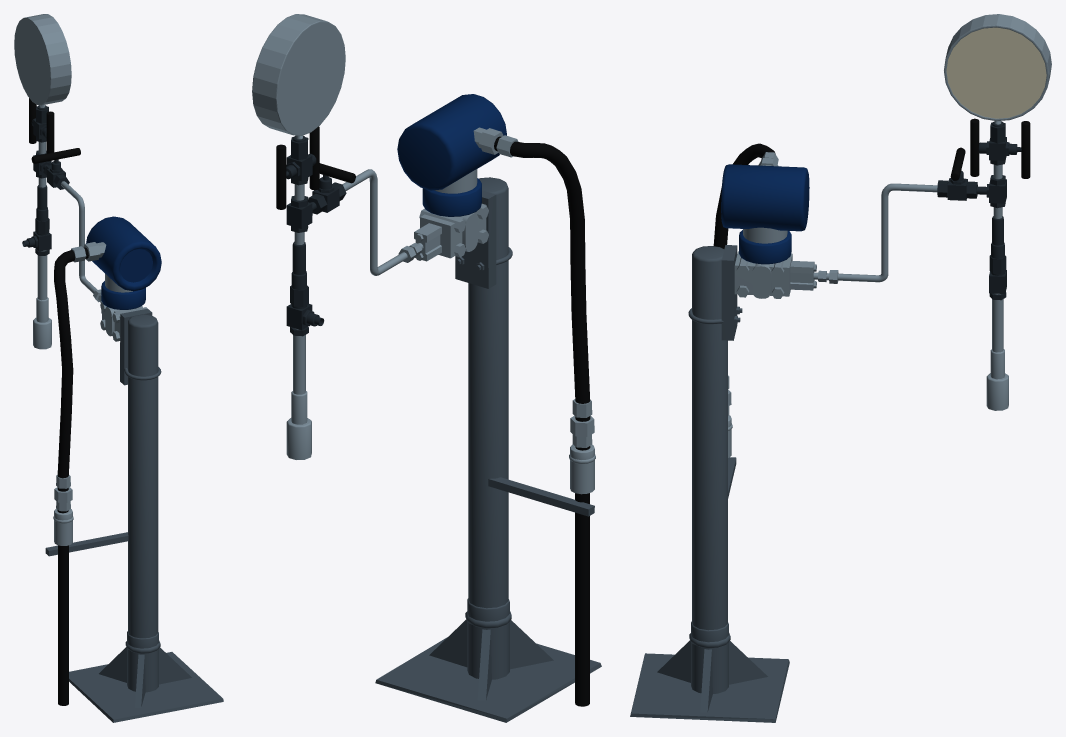
The model's file is 压力变送器_完整装配.fbx.
3 views of the same model, side by side, from view 1: azimuth 30°, elevation 25°; view 2: azimuth 150°, elevation 25°; view 3: azimuth 270°, elevation 25° (orthographic). The views are drawn at different scales.
Parts seen in each view (by area): view 1: 立柱_支撑管, 底座_安装底板, 压力表_表壳, 变送器_电子外壳, 线缆_弯曲护套, 线缆_下引段, 立柱_底部套筒, 变送器_下壳盖, 支架_仪表安装板, 支架_线缆固定片, 引压管_弯管, 线缆_防水接头 (+7 smaller); view 2: 立柱_支撑管, 压力表_表壳, 底座_安装底板, 变送器_电子外壳, 线缆_弯曲护套, 线缆_下引段, 立柱_底部套筒, 支架_仪表安装板, 变送器_下壳盖, 支架_线缆固定片, 引压管_弯管, 线缆_防水接头 (+10 smaller); view 3: 立柱_支撑管, 压力表_表盘, 底座_安装底板, 变送器_电子外壳, 压力表_表壳, 立柱_底部套筒, 引压管_弯管, 支架_仪表安装板, 变送器_下壳盖, 变送器_连接块, 线缆_弯曲护套, 底座_加强筋_02 (+3 smaller).
Boxes of the visible parts, x1,y1,x2,y2 form: 立柱_支撑管: (128, 314, 158, 638); 底座_安装底板: (69, 652, 223, 722); 压力表_表壳: (14, 14, 71, 105); 变送器_电子外壳: (86, 216, 161, 291); 线缆_弯曲护套: (54, 247, 88, 513); 线缆_下引段: (58, 545, 68, 705); 立柱_底部套筒: (125, 631, 160, 692); 变送器_下壳盖: (101, 281, 145, 309); 支架_仪表安装板: (120, 308, 152, 385); 支架_线缆固定片: (45, 532, 128, 556); 引压管_弯管: (61, 181, 99, 296); 线缆_防水接头: (53, 508, 73, 545); 立柱_支撑管: (468, 177, 508, 608); 压力表_表壳: (252, 14, 345, 135); 底座_安装底板: (375, 637, 601, 722); 变送器_电子外壳: (397, 94, 506, 190); 线缆_弯曲护套: (494, 136, 590, 450); 线缆_下引段: (575, 493, 589, 706); 立柱_底部套筒: (465, 598, 511, 679); 支架_仪表安装板: (455, 190, 496, 288); 变送器_下壳盖: (422, 178, 481, 216); 支架_线缆固定片: (488, 477, 594, 516); 引压管_弯管: (342, 169, 423, 275); 线缆_防水接头: (569, 444, 595, 494); 立柱_支撑管: (692, 246, 727, 630); 压力表_表盘: (946, 27, 1046, 118); 底座_安装底板: (630, 653, 789, 722); 变送器_电子外壳: (721, 164, 809, 231); 压力表_表壳: (944, 14, 1051, 120); 立柱_底部套筒: (689, 621, 730, 693); 引压管_弯管: (813, 183, 937, 282); 支架_仪表安装板: (721, 245, 737, 340); 变送器_下壳盖: (739, 230, 791, 264); 变送器_连接块: (734, 251, 792, 296); 线缆_弯曲护套: (713, 143, 775, 248); 底座_加强筋_02: (729, 641, 767, 684).
Size of the model in its own units: 0.1314 by 0.4999 by 0.2801.
